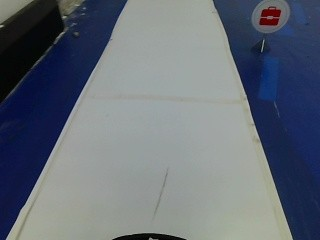company: (251, 0, 289, 33)
